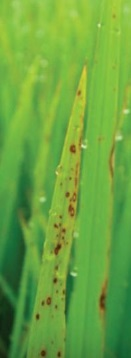Bercak Coklat: (66, 203, 77, 218), (37, 347, 50, 358), (53, 240, 61, 256), (50, 275, 61, 286), (68, 143, 78, 155), (44, 294, 52, 309), (62, 188, 72, 198), (50, 220, 58, 230), (71, 191, 78, 202), (34, 311, 41, 322), (55, 351, 64, 358), (60, 227, 68, 234)
